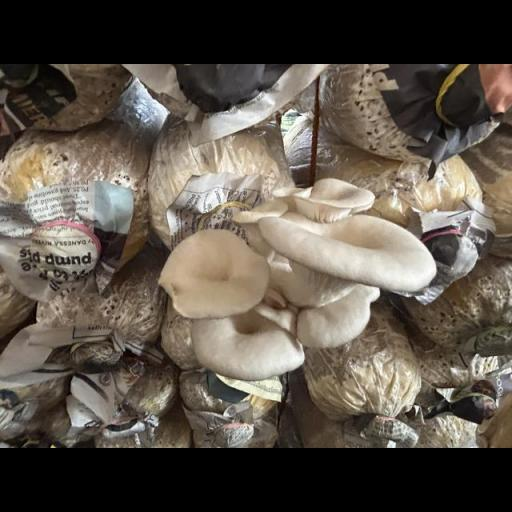White Oyster Mushroom: (155, 168, 442, 383)
